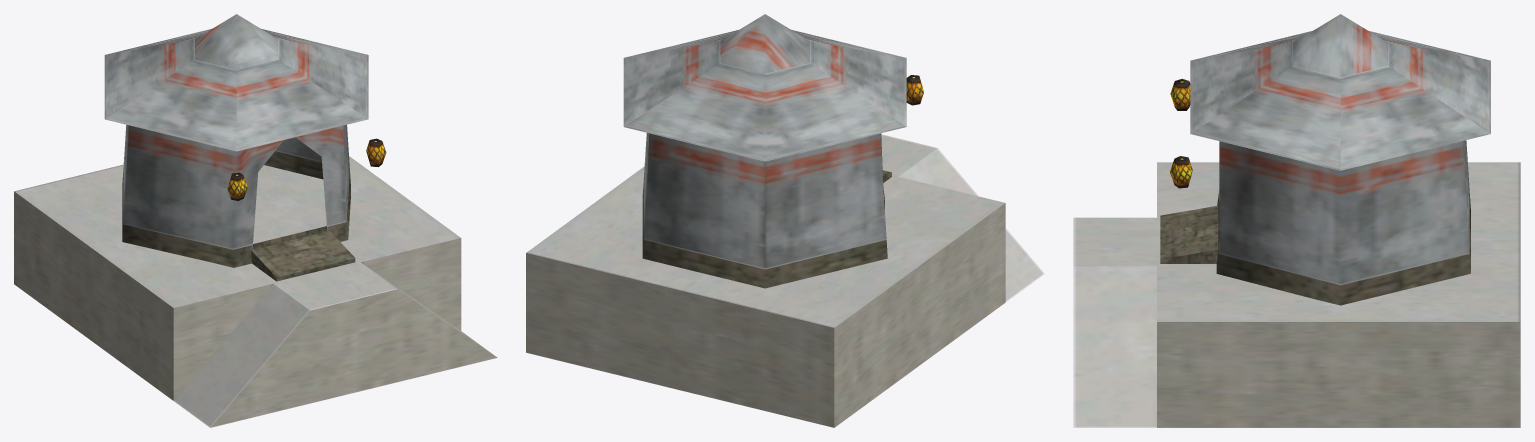
Rendered from ply_corl_merchant_tent_s01_r0_mesh_l3.fbx.
3 views of the same model, side by side, from view 1: azimuth 30°, elevation 25°; view 2: azimuth 150°, elevation 25°; view 3: azimuth 270°, elevation 25° (orthographic). The views are drawn at different scales.
Parts seen in each view (by area): view 1: mesh_node; view 2: mesh_node; view 3: mesh_node.
Part boxes in pixels (x1,y1,x2,y2): mesh_node: (14, 14, 497, 427); mesh_node: (526, 14, 1044, 427); mesh_node: (1073, 14, 1520, 427).
Size of the model in its own units: 9.05 by 8.81 by 10.7.
